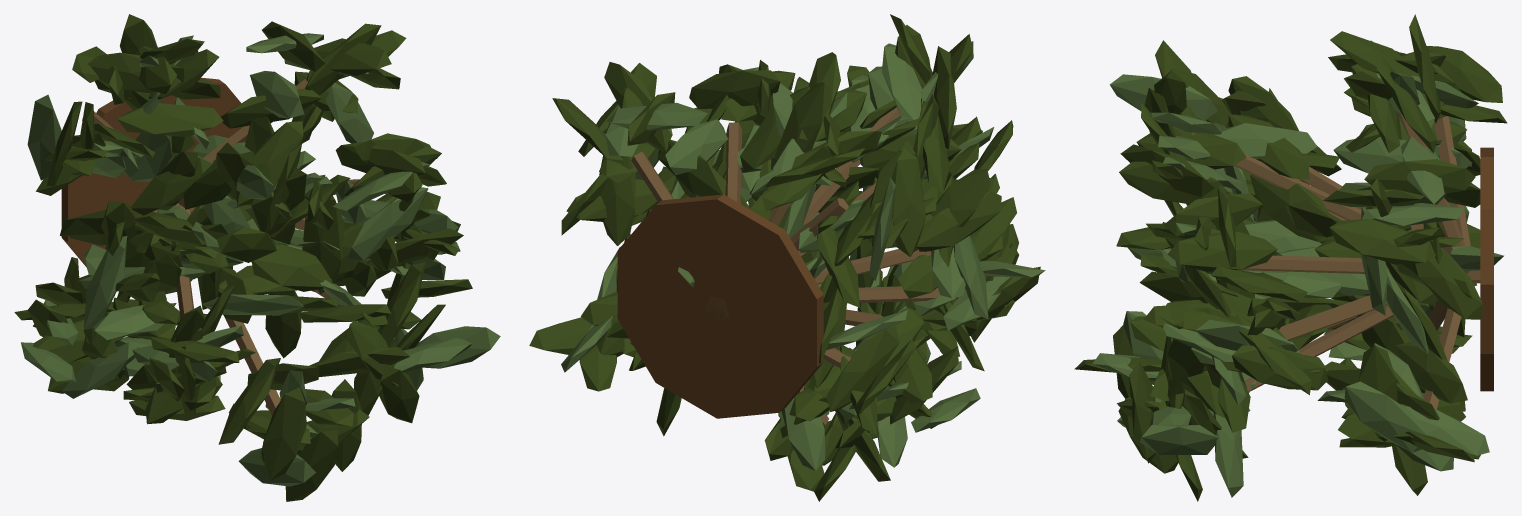
The model's file is 3_mature_empty.obj.
3 views of the same model, side by side, from view 1: azimuth 30°, elevation 25°; view 2: azimuth 150°, elevation 25°; view 3: azimuth 270°, elevation 25° (orthographic). The views are drawn at different scales.
Parts seen in each view (by area): view 1: 3_mature_empty; view 2: 3_mature_empty; view 3: 3_mature_empty.
Boxes of the visible parts, box(x1,y1,x2,y2) form: 3_mature_empty: box(14, 14, 500, 501); 3_mature_empty: box(529, 14, 1045, 501); 3_mature_empty: box(1074, 14, 1507, 501).
Bounding box in the file's own units: 0.6981 × 0.6962 × 0.629.
